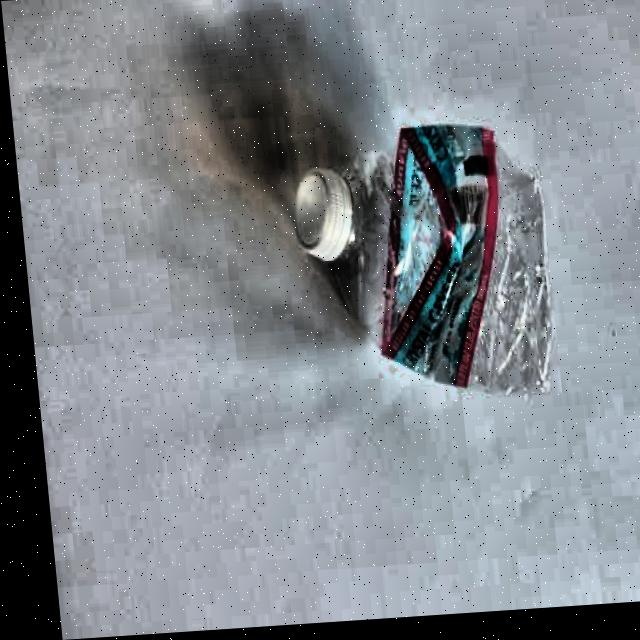plastic: (280, 110, 562, 417)
